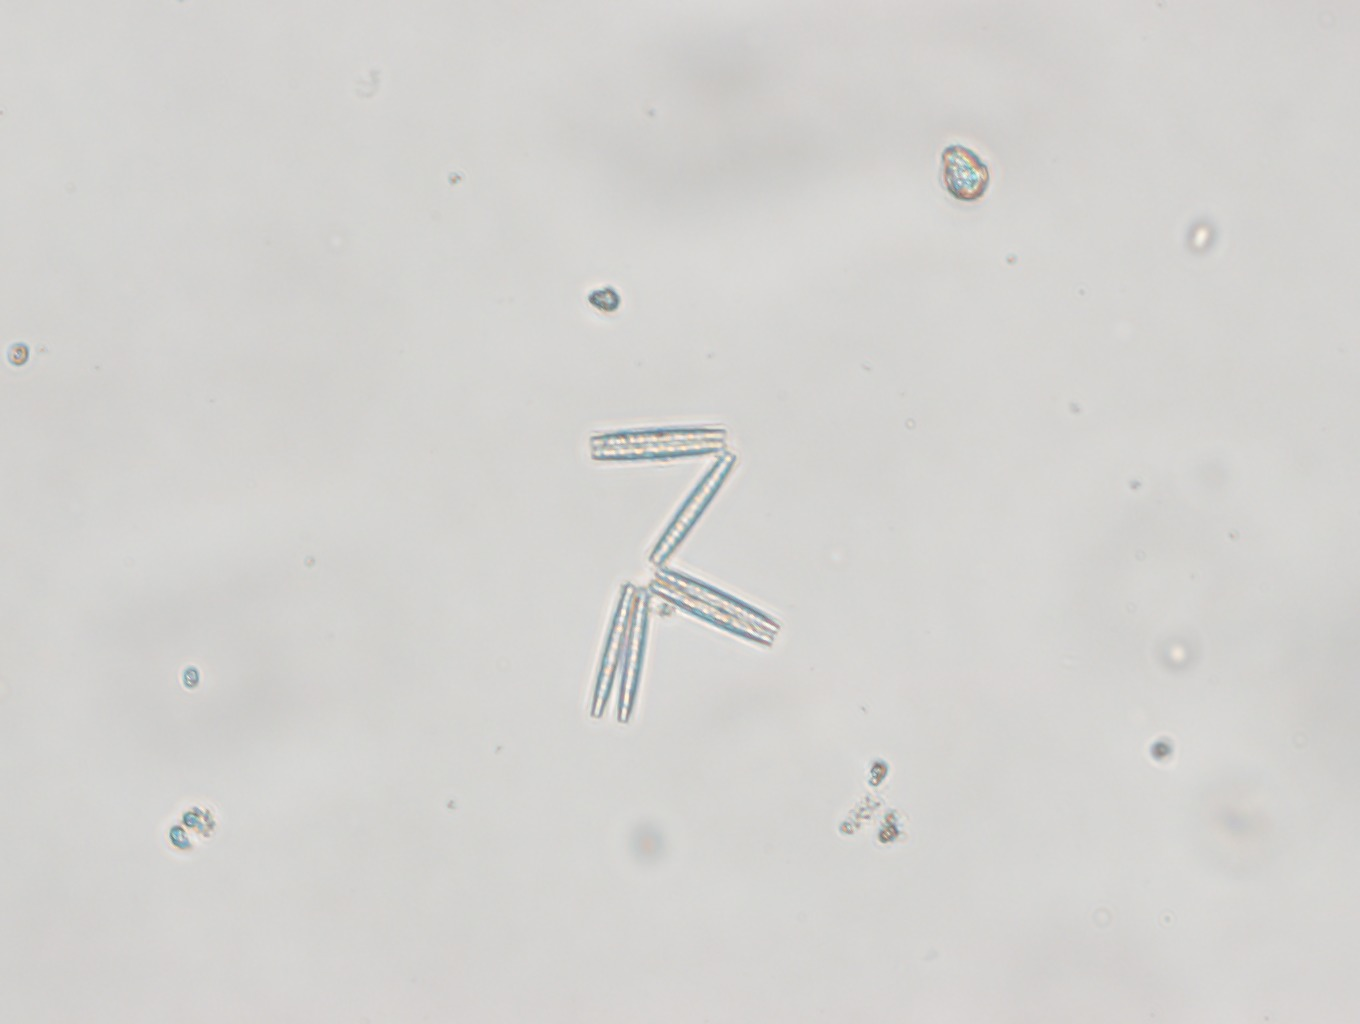thalassionema nitzschioides: (581, 423, 782, 721)
